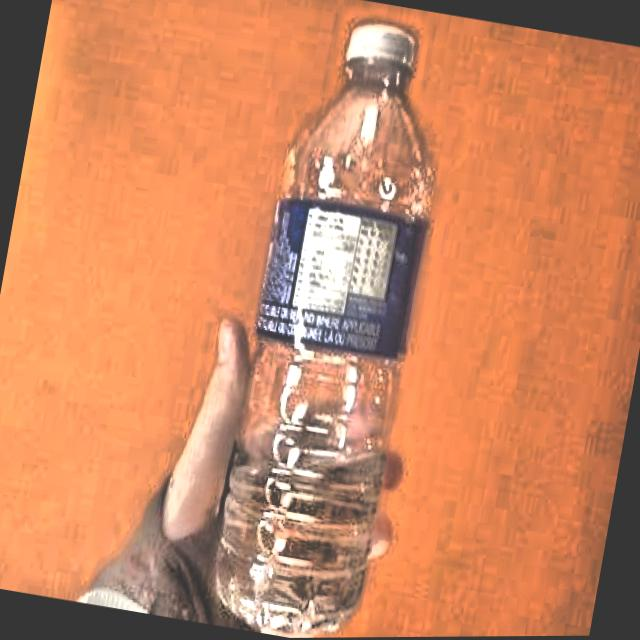Bottles: (177, 0, 490, 639)
